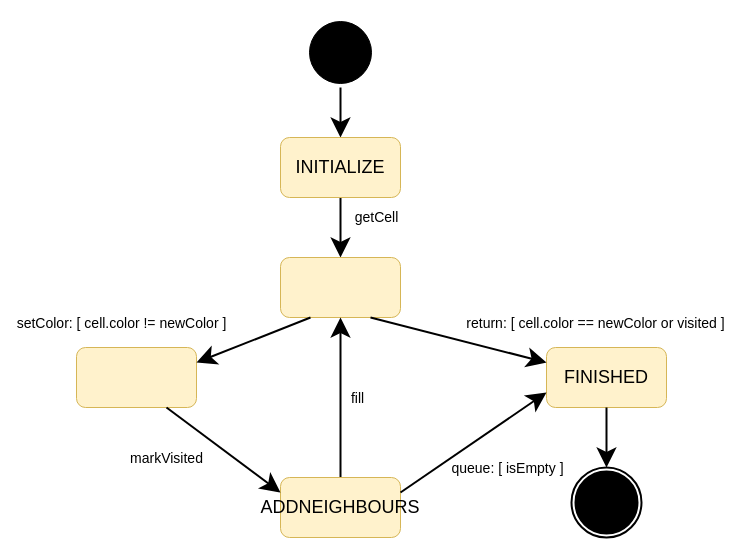
Image size: 742x556. Some labels were removed from this diagram. Here are the shapes that lost their labels. From the top down, the box of each, then its label:
(280, 256, 400, 318): CHECKCELL
(76, 346, 196, 408): RECOLOR
